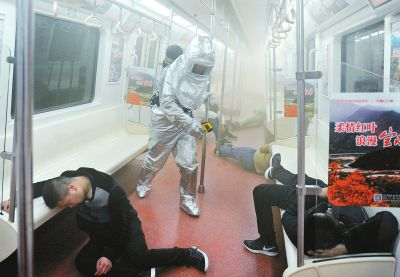fall: (239, 152, 399, 264)
